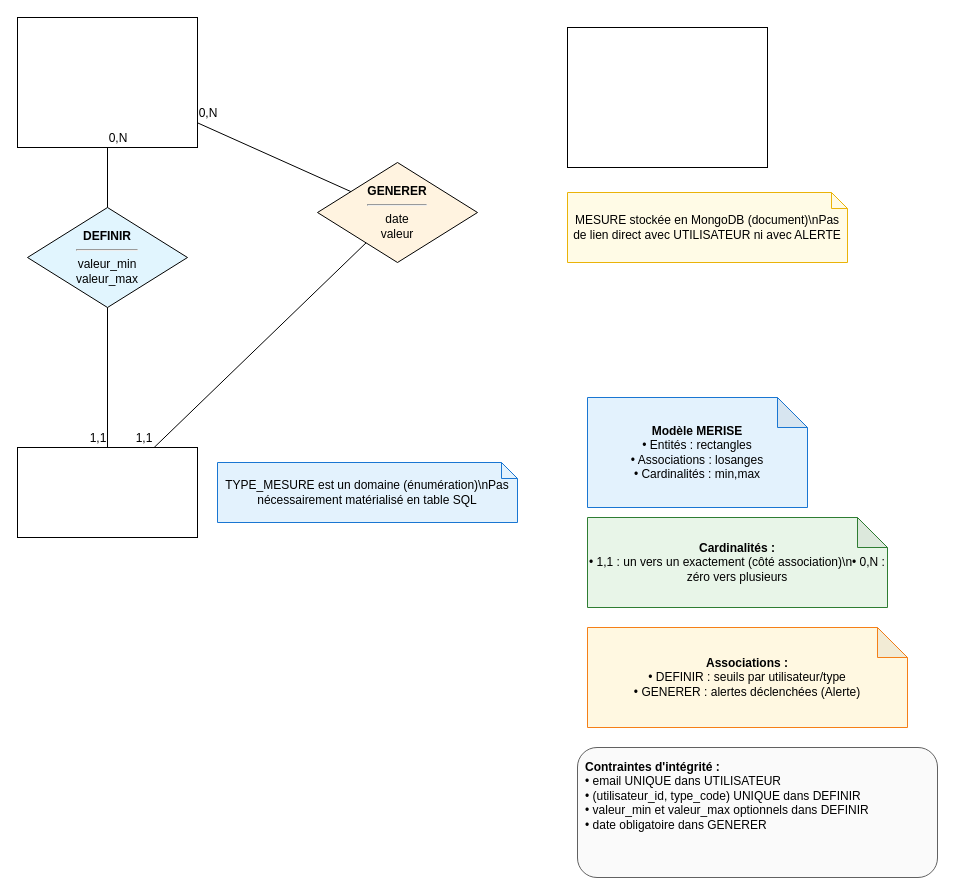
Some shapes in this 955 by 895 pixel diagram are drawn without their labels. The box of each missing label's shape, as (x1, y1, x2, y2) in pixels:
MESURE id date temperature humidite luminosite: (566, 26, 768, 168)
TYPE_MESURE code libelle: (16, 446, 198, 538)
UTILISATEUR id nom email mot_de_passe role: (16, 16, 198, 148)
